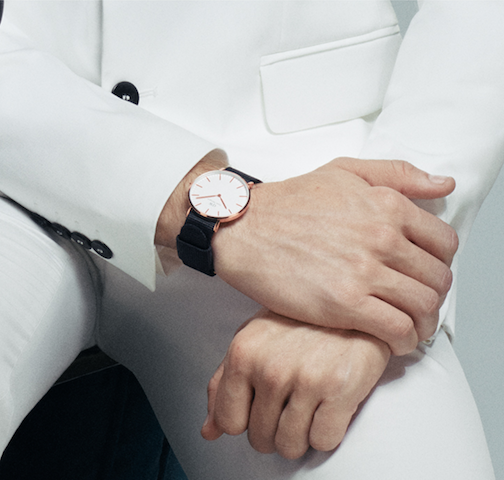watch: (169, 149, 262, 290)
